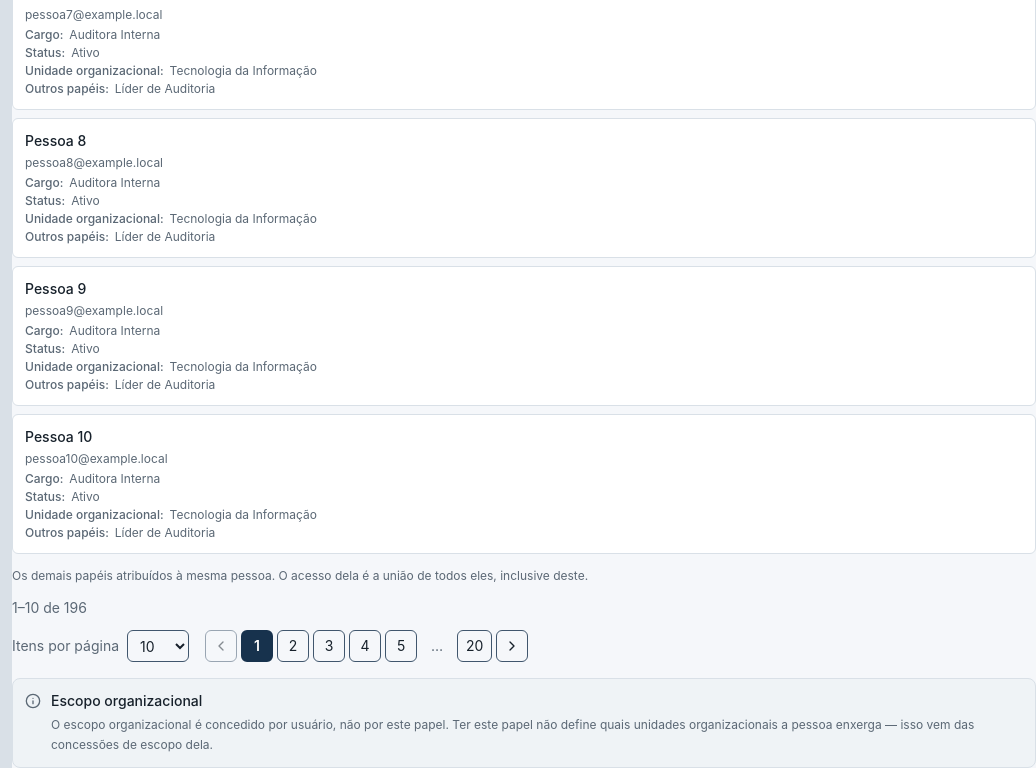
Scenario: RoleUsersTab — pagination above the contract cap (FR-024, NFR-006) › turns the page with exactly one further request, and says which slice it is showing
(page scrolled)
expect the text "1–10 de 196" is shown: met, box [12,598,87,618]
Click the button named "Ir para a página 2".
click(293, 646)  # box [277,630,309,662]
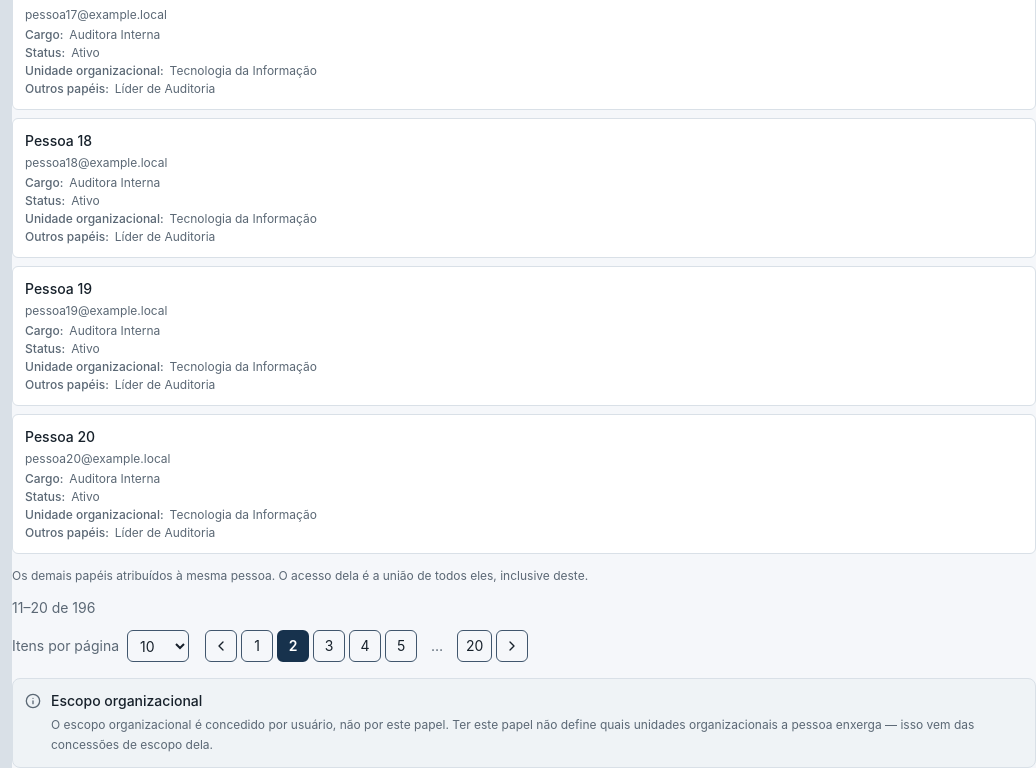
expect the text "11–20 de 196" is shown: met, box [12,598,95,618]
